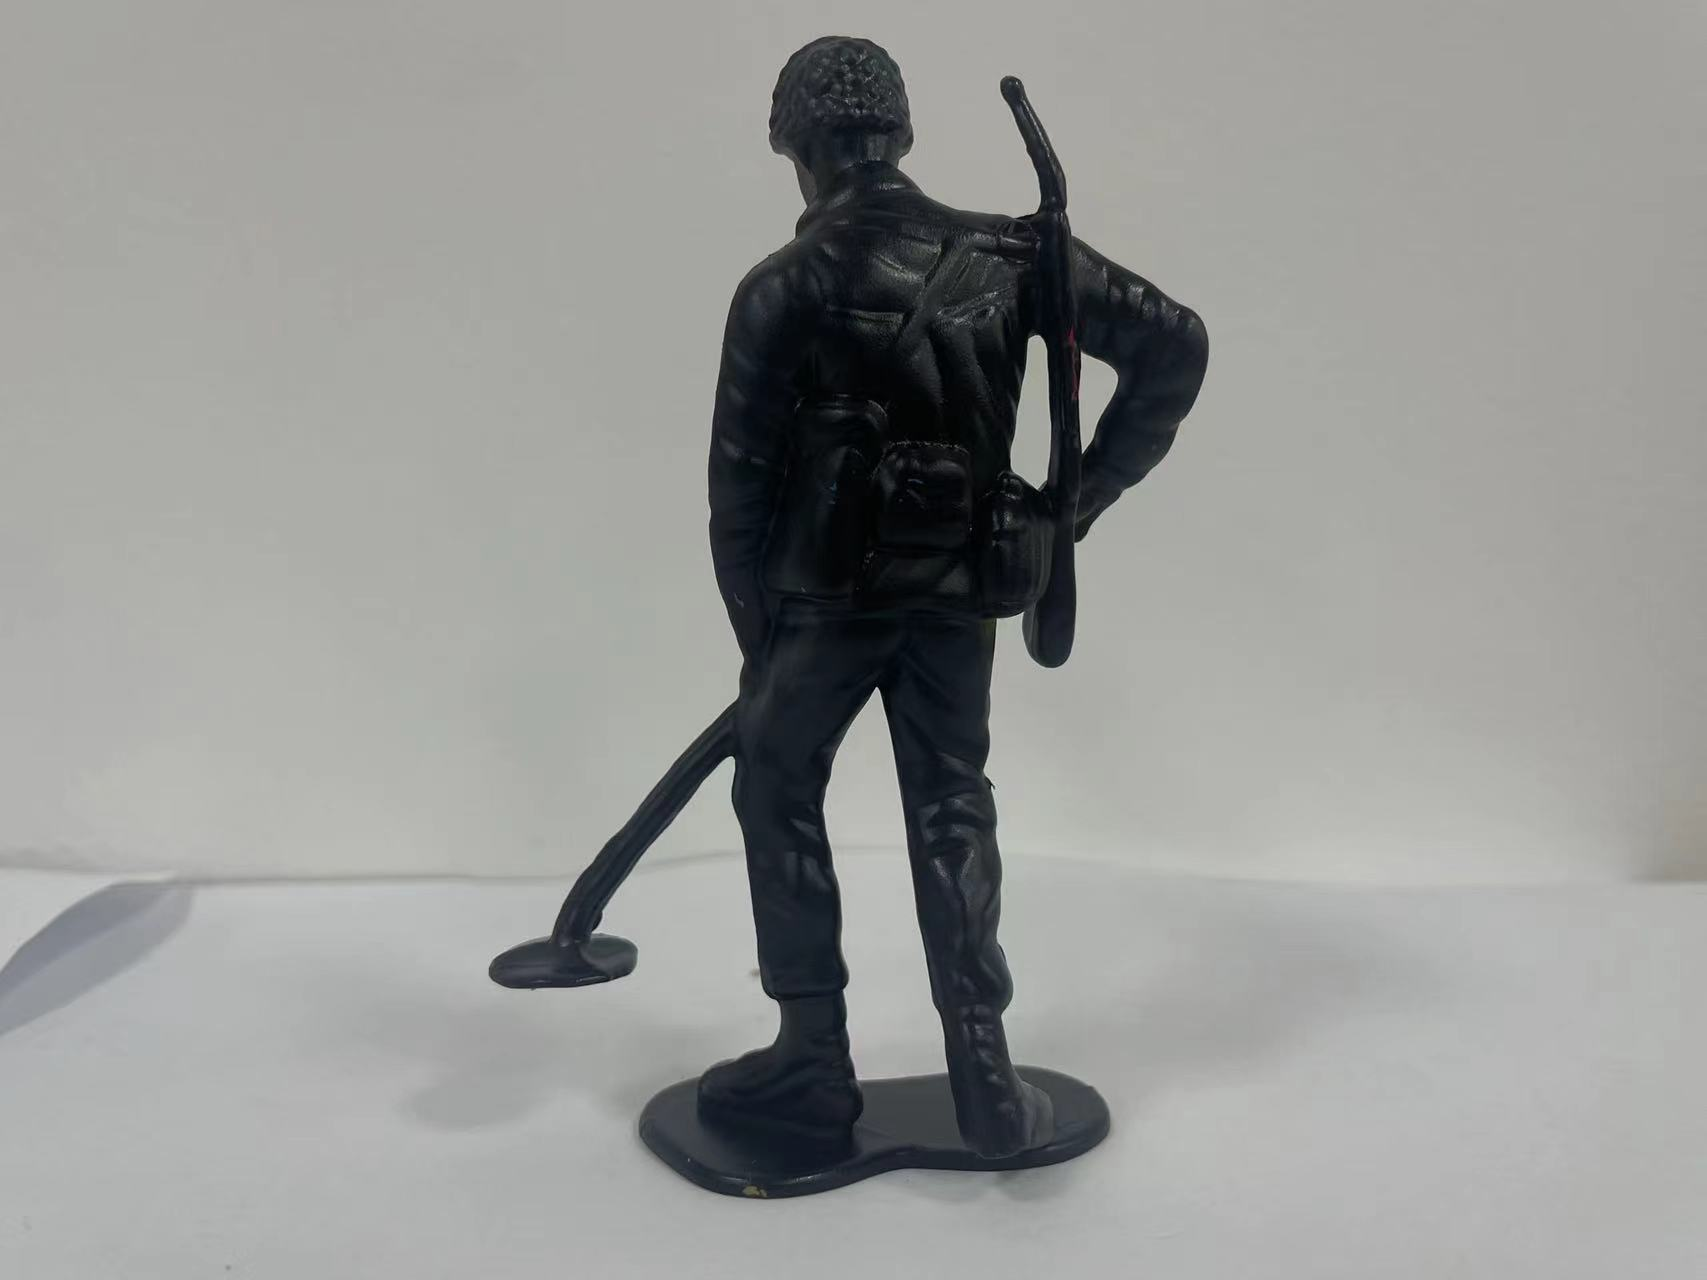black: (515, 23, 1263, 1201)
